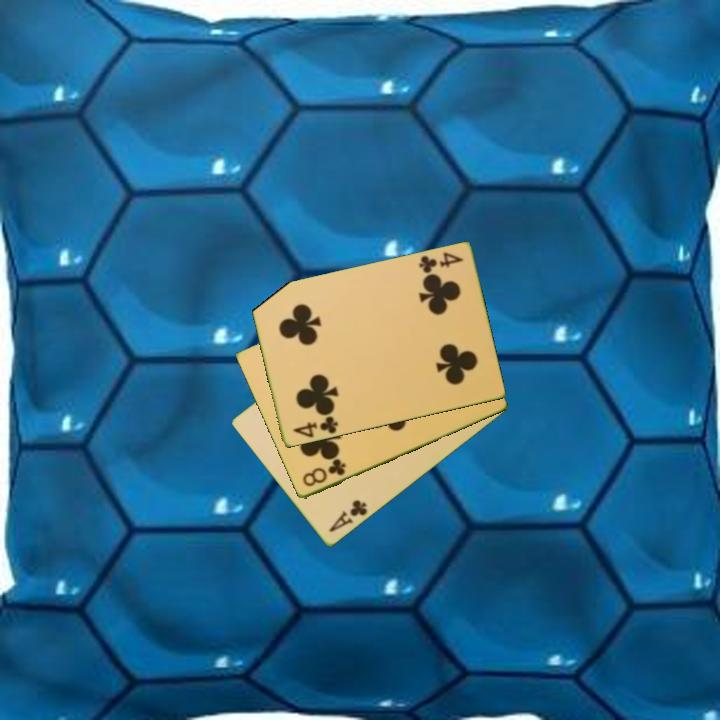4c: (289, 411, 340, 441), (415, 249, 466, 277)
8c: (299, 456, 349, 490)
Ac: (325, 497, 370, 536)
